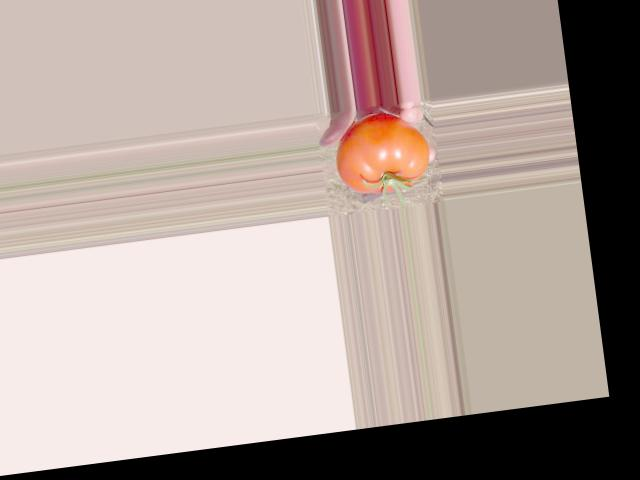tomato: (331, 107, 434, 198)
